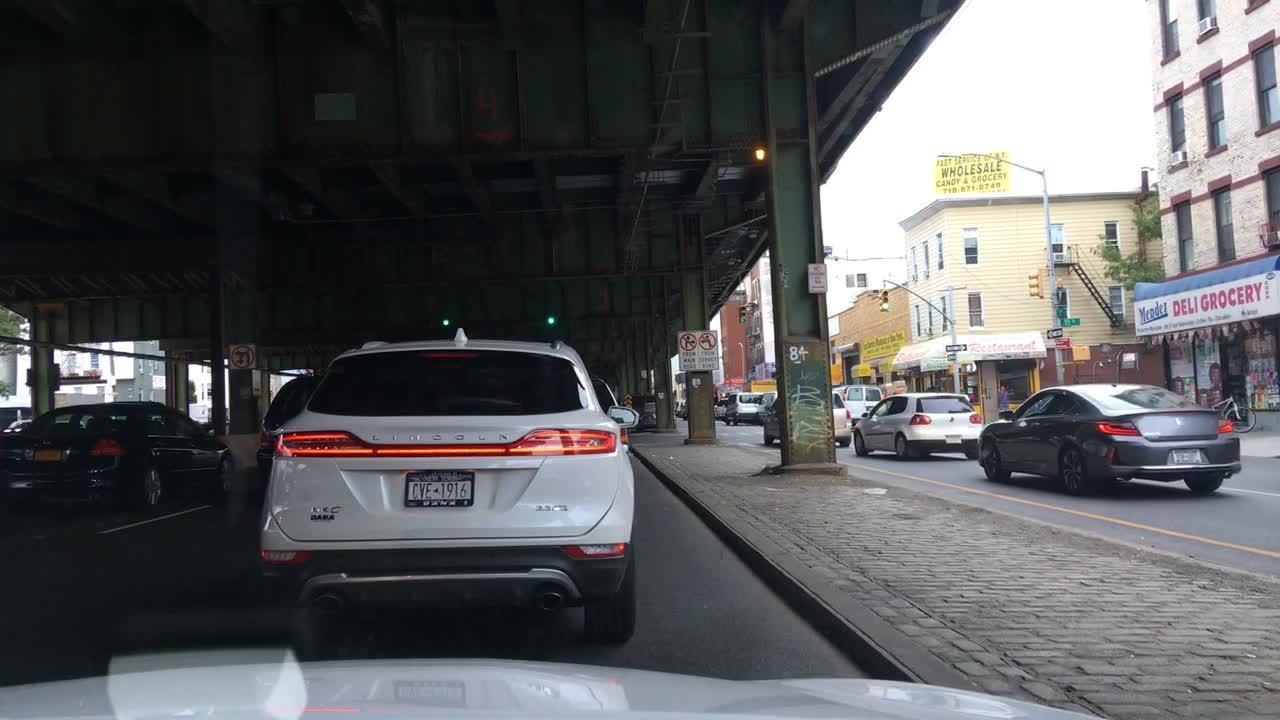lincoln: (363, 425, 518, 454)
